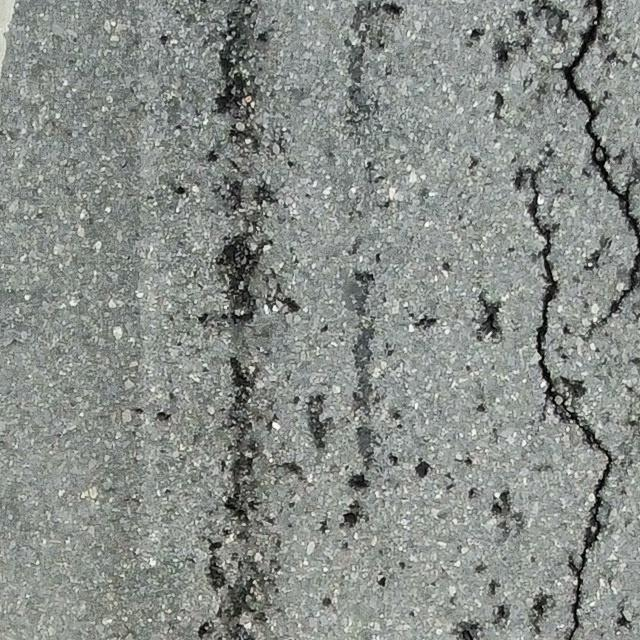LongitudinalCrack: (528, 150, 613, 640), (564, 1, 640, 342)
